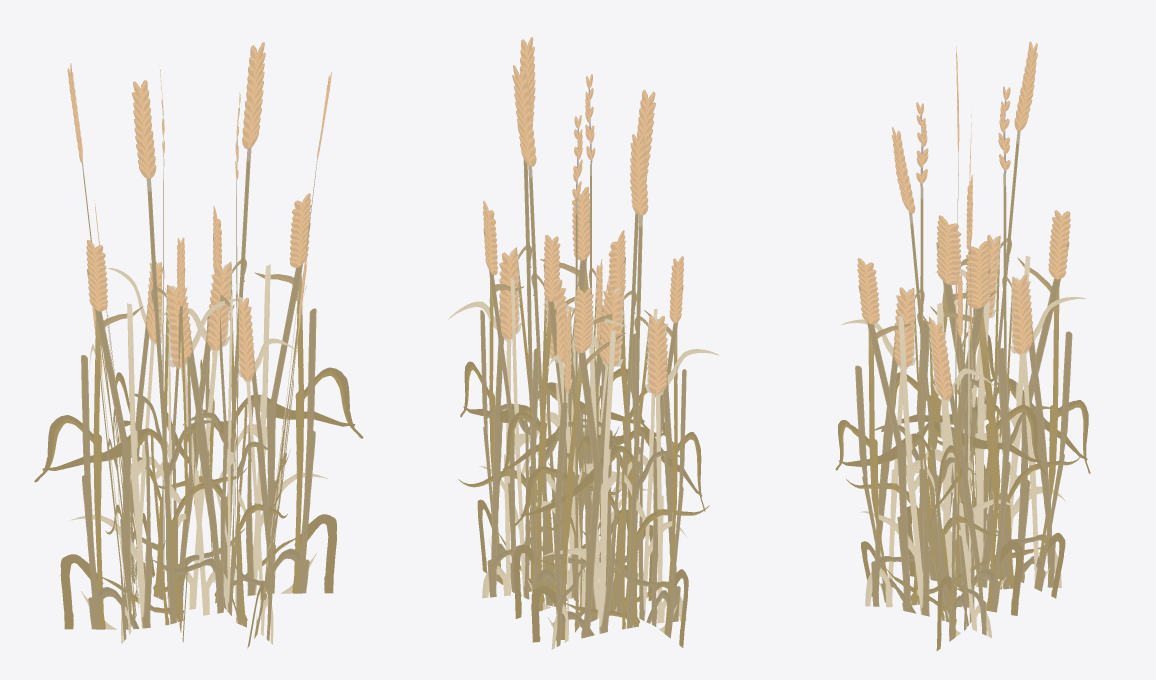
File: PT_Wheat_01_cut_up.fbx
3 renders of one model, left to right at view 1: azimuth 30°, elevation 25°; view 2: azimuth 150°, elevation 25°; view 3: azimuth 270°, elevation 25°, orthographic. The views are drawn at different scales.
Visible parts, largest first — view 1: PT_Wheat_01_cut_up_LOD0; view 2: PT_Wheat_01_cut_up_LOD0; view 3: PT_Wheat_01_cut_up_LOD0.
Boxes of the visible parts, x1,y1,x2,y2 form: PT_Wheat_01_cut_up_LOD0: (34, 42, 363, 648); PT_Wheat_01_cut_up_LOD0: (448, 37, 719, 649); PT_Wheat_01_cut_up_LOD0: (835, 41, 1090, 650).
Size of what is drawn, in the model's own units: 59.2 by 95.62 by 57.15.
